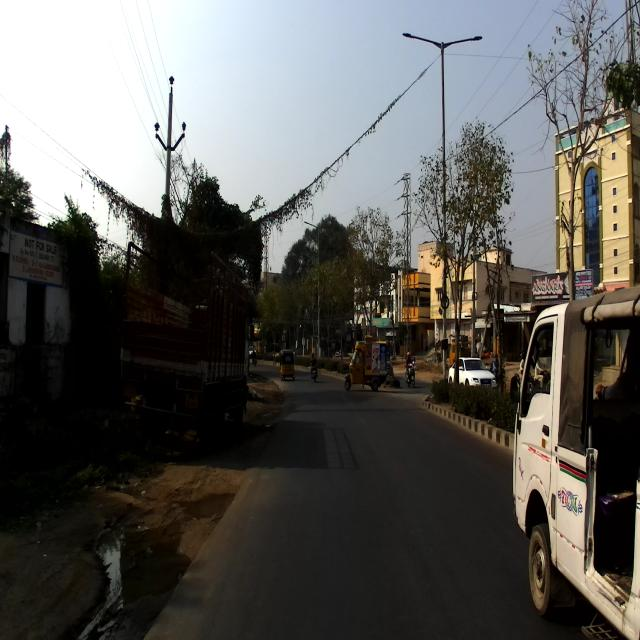car ahead at: (511, 297, 640, 640)
truck ahead at: (127, 261, 254, 444), (341, 336, 392, 398)
